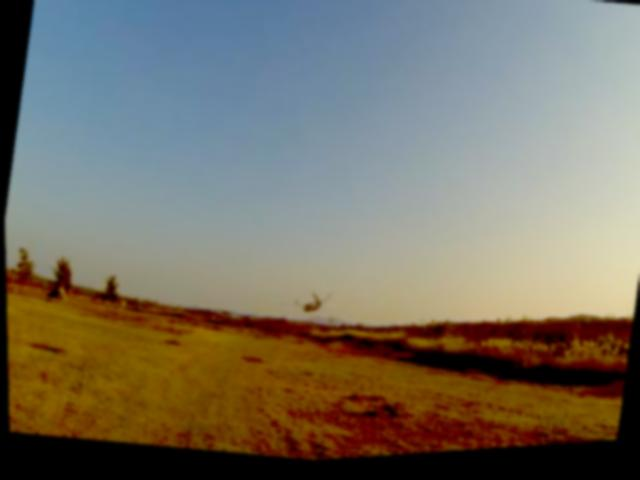uav: (266, 283, 353, 334)
